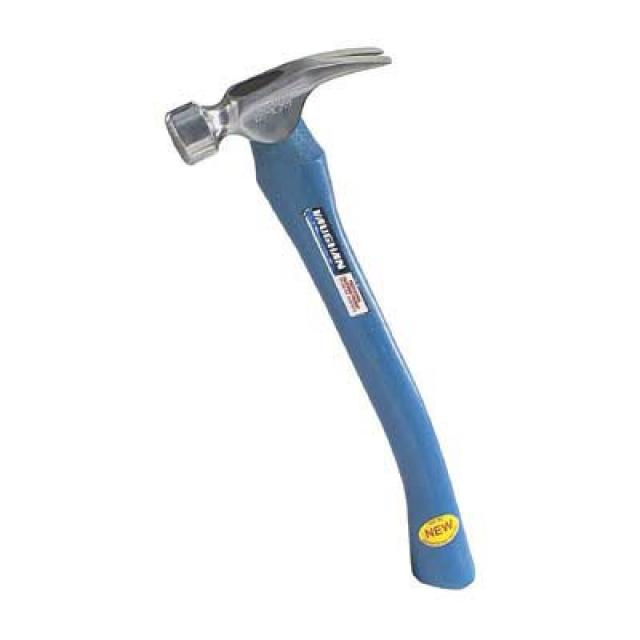hammer: (153, 27, 562, 583)
